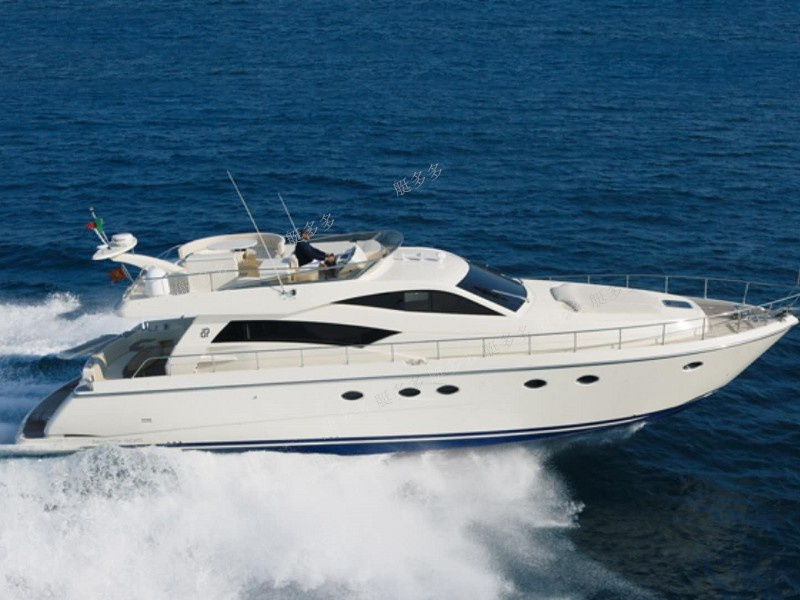yacht: (4, 212, 792, 460)
